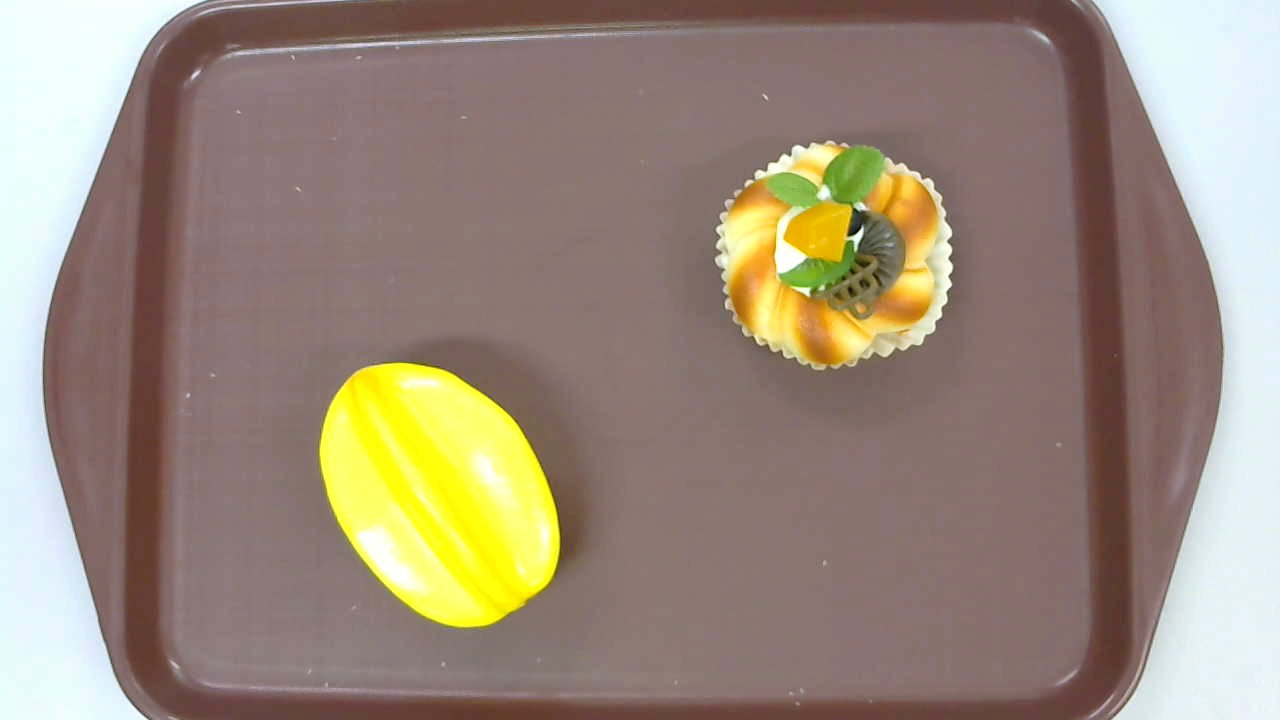fruit tart: (714, 139, 952, 372)
star fruit: (319, 360, 560, 629)
